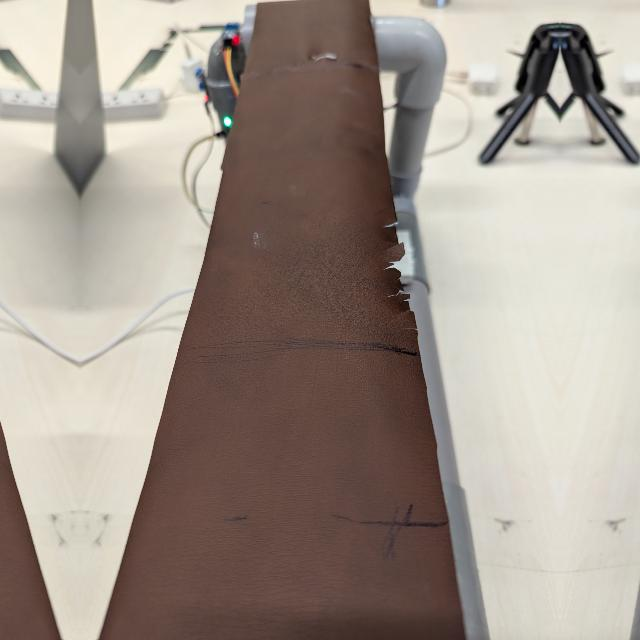edge_damage: (371, 198, 433, 329)
joint_damage: (305, 49, 347, 69)
